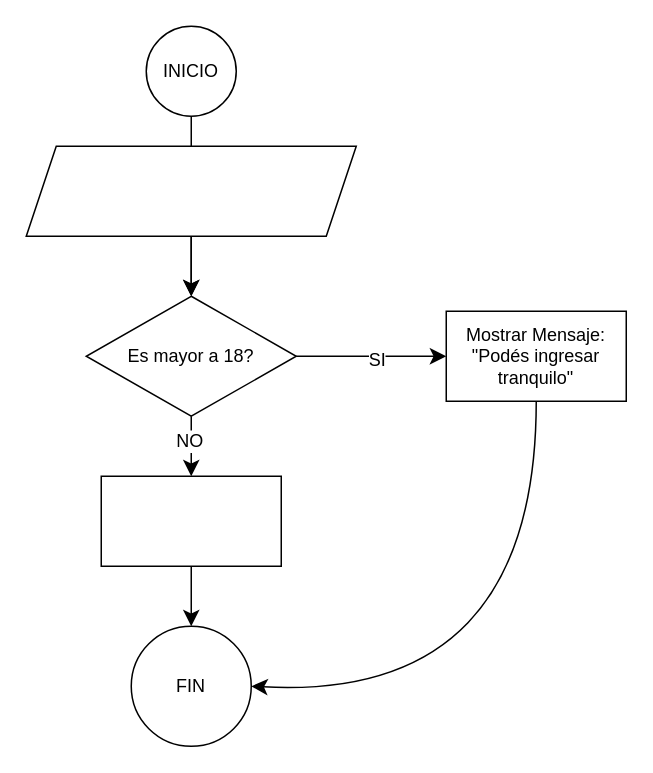
The diagram is 653 pixels wide and 773 high, and some of its shapes have lost their labels. The shapes that lost their labels are listed below. From the top down, each one's centre as x and y in pixels, then its label:
pixel 190 190: Mostrar Mensaje: "Por favor ingrese la edad del cliente: "
pixel 190 520: "No podés ingresar"
